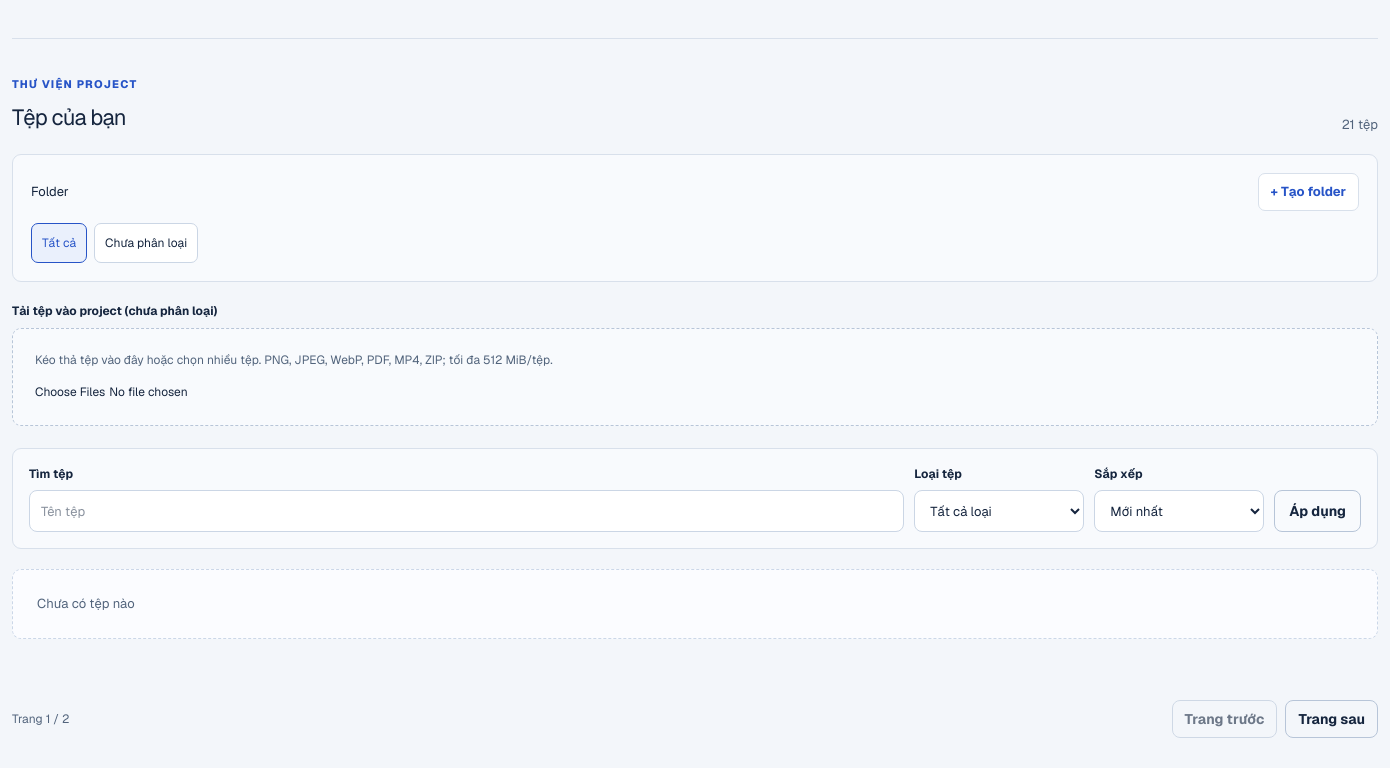
Test case: FileExplorer › returns to page one after trashing the only file on the last page
The width and height of the screenshot is (1390, 768).
Later steps or results of the test are not shown.
Expected: the text "Trang 1 / 2" is shown, [12,710,69,728]
What coordinates should you click on to do the following:
click the button "Trang sau"
I would click on:
 (1332, 719)
Its box is [1285,700,1378,738].
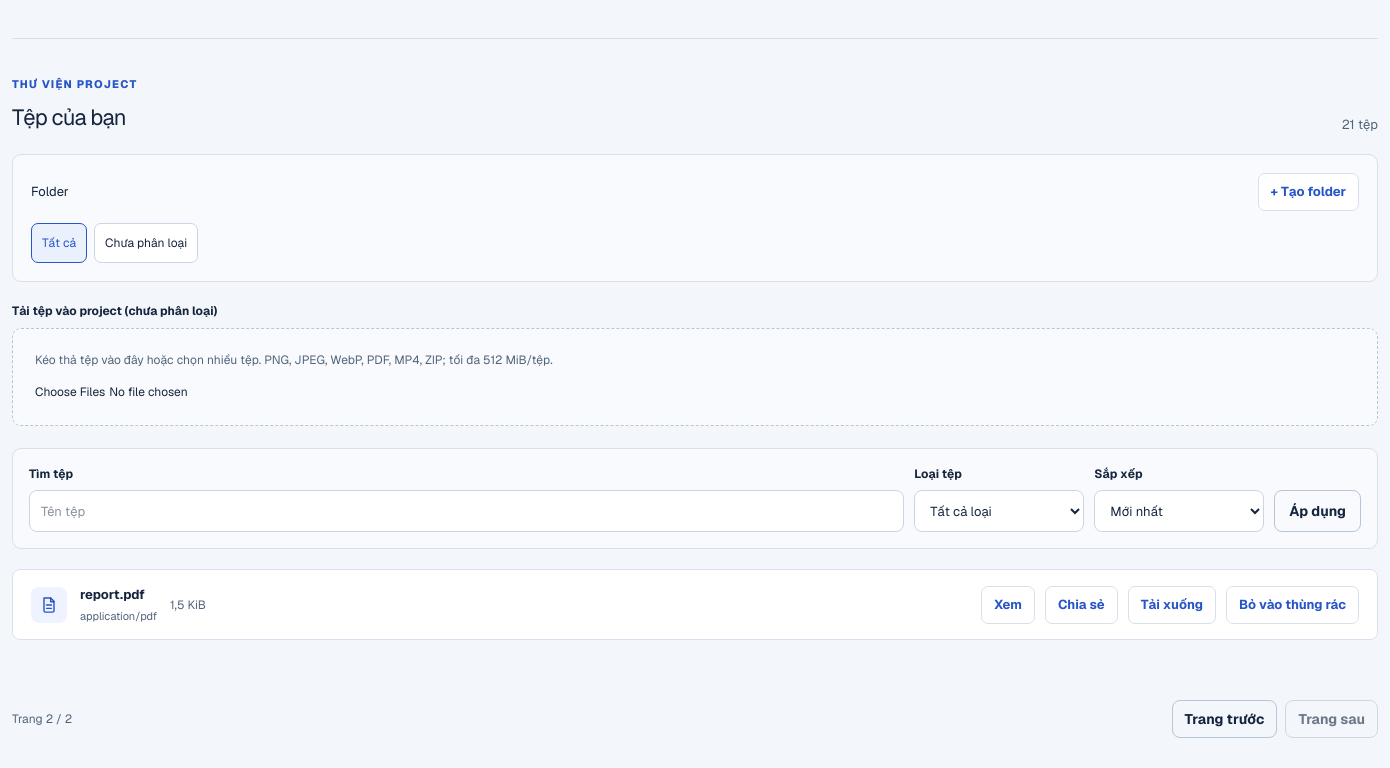
Expected: the text "report.pdf" is shown, [80,586,145,603]
